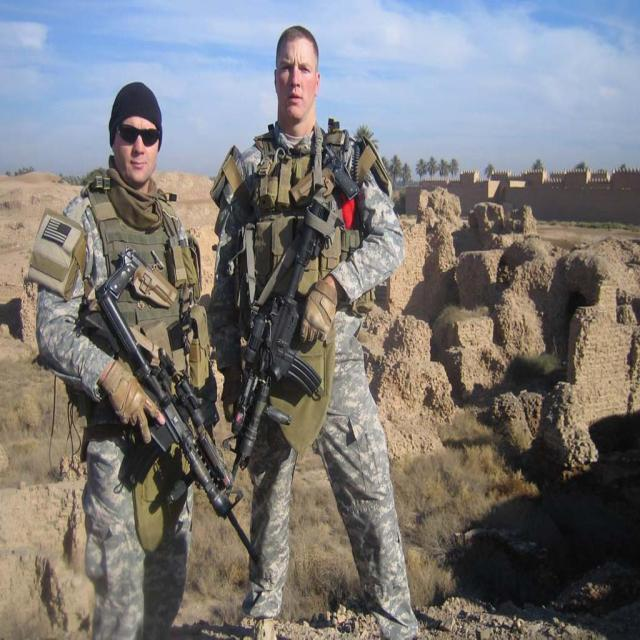Face: (114, 105, 163, 189), (278, 39, 326, 124)
